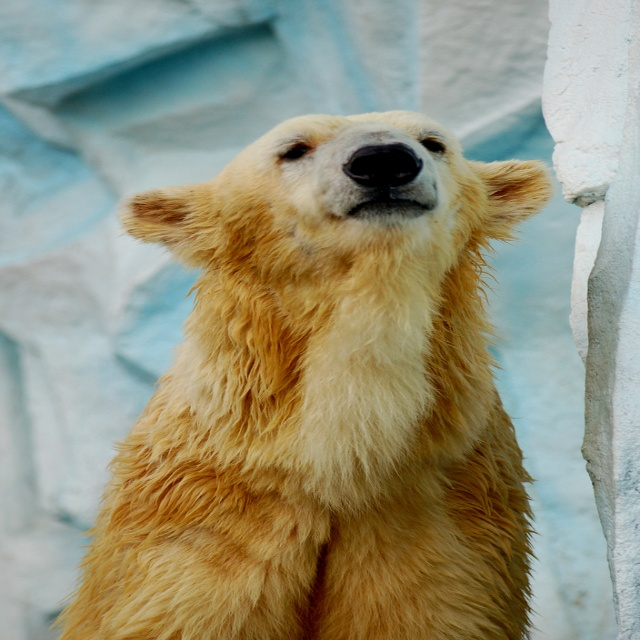Polar bear: (45, 106, 549, 640)
